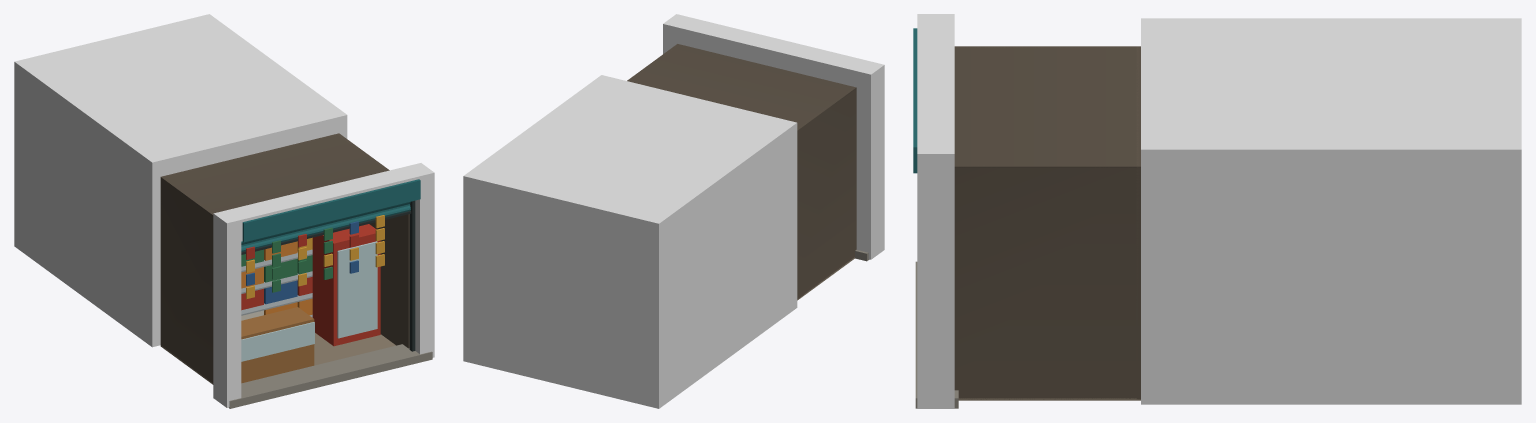
File: tret_tap_hoa_40.glb
The picture shows the model from 3 angles, left to right: view 1: azimuth 30°, elevation 25°; view 2: azimuth 150°, elevation 25°; view 3: azimuth 270°, elevation 25°; orthographic projection. The views are drawn at different scales.
Visible parts, largest first — view 1: tret_tap_hoa_40; view 2: tret_tap_hoa_40; view 3: tret_tap_hoa_40.
Part boxes in pixels (<box>): tret_tap_hoa_40: <box>14,14,434,408</box>; tret_tap_hoa_40: <box>463,14,884,408</box>; tret_tap_hoa_40: <box>913,14,1521,408</box>.
Bounding box in the file's own units: 4 × 3.42 × 7.35.
